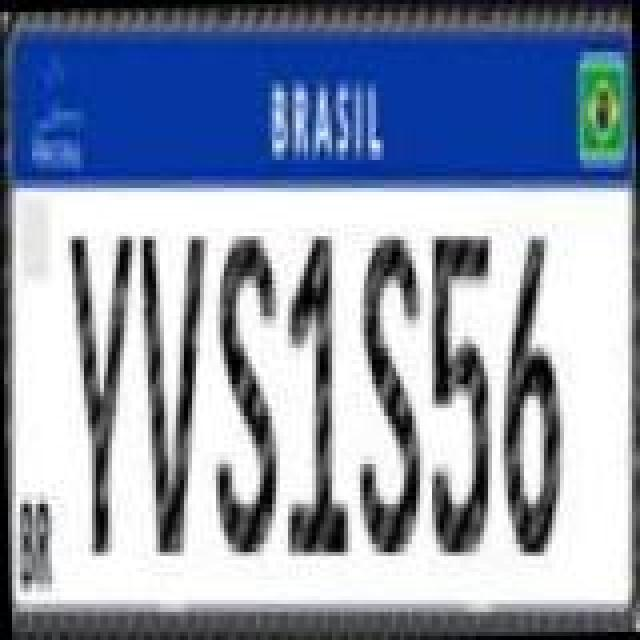1: (274, 224, 362, 560)
5: (414, 222, 502, 562)
6: (486, 224, 574, 560)
S: (198, 224, 286, 564), (342, 224, 430, 564)
V: (124, 222, 216, 558)
Y: (54, 226, 142, 558)
